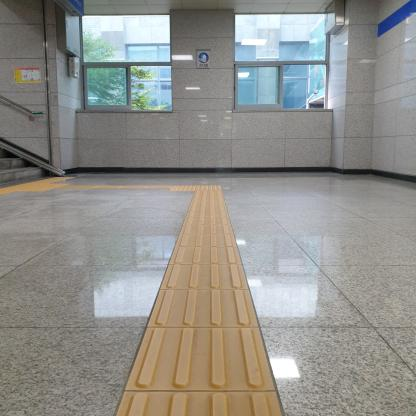go: (124, 327, 276, 390), (146, 289, 260, 327), (159, 265, 249, 289), (169, 247, 243, 265)
